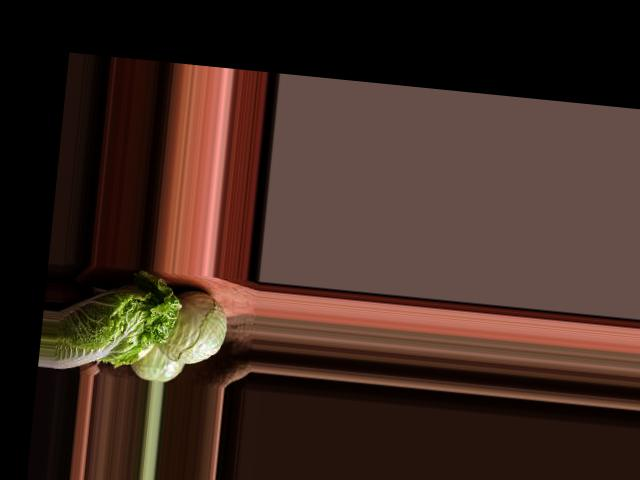lettuce: (60, 262, 235, 385)
